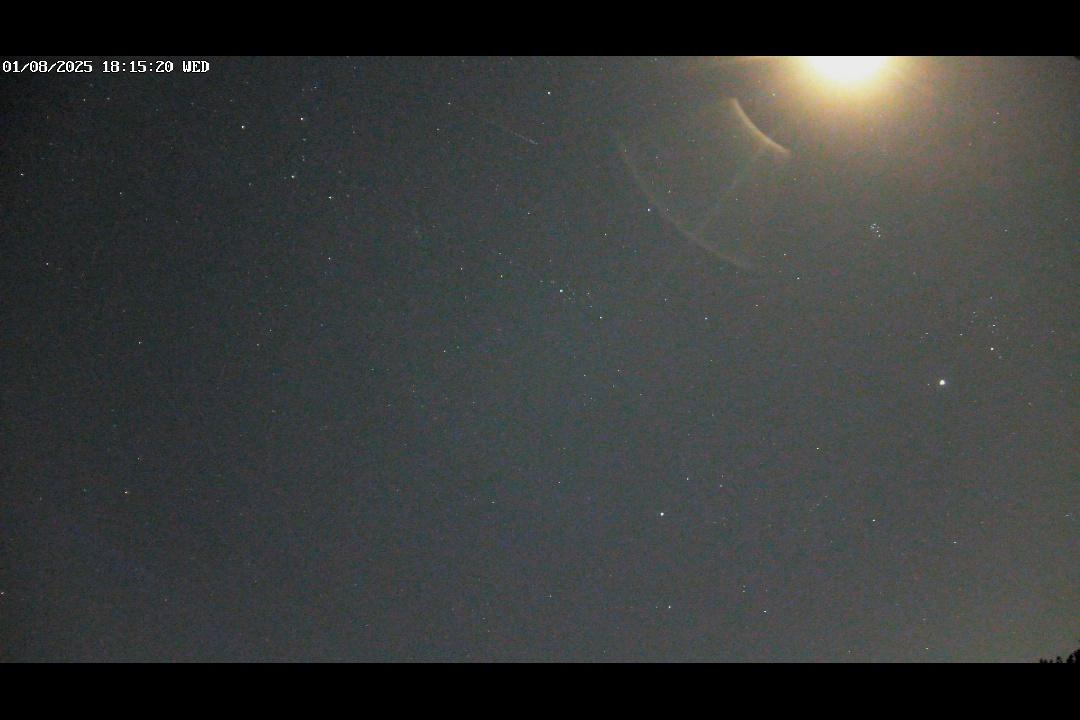Plane: (502, 123, 547, 150)
